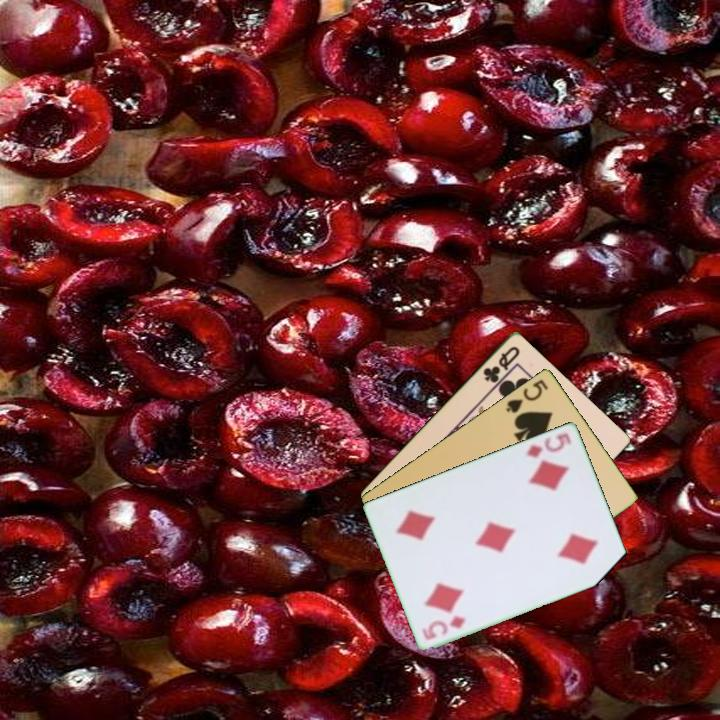5d: (523, 429, 574, 461), (418, 612, 470, 643)
5s: (502, 375, 551, 416)
Qc: (479, 342, 523, 386)
